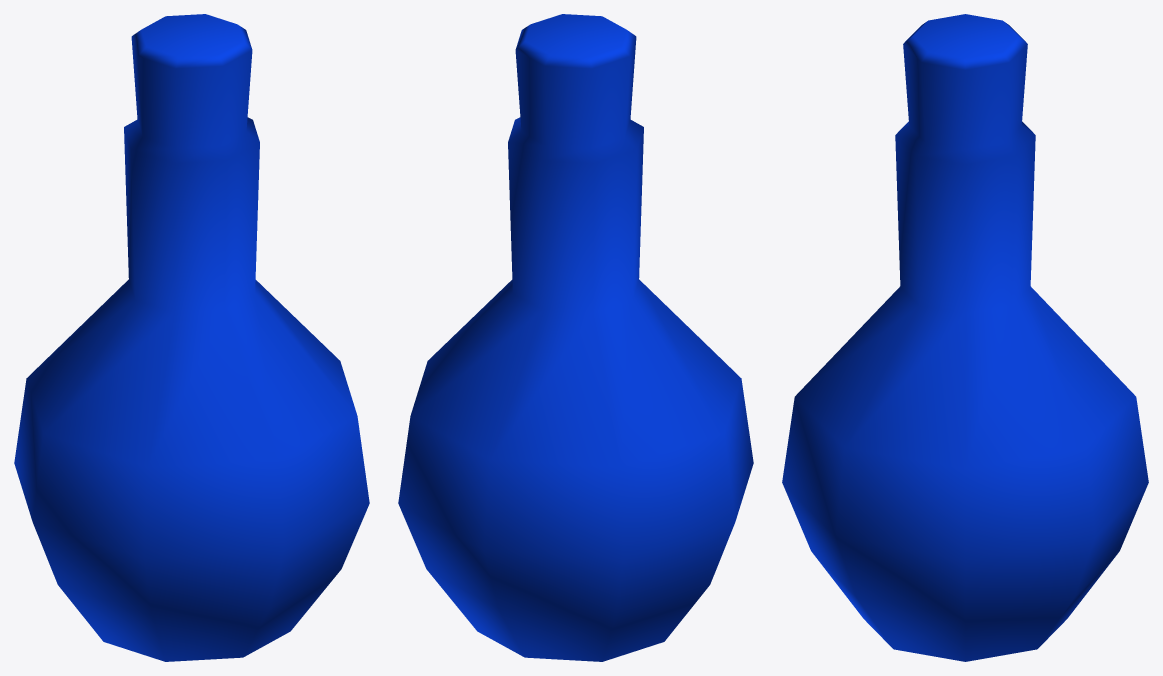
The model's file is Potion_02.fbx.
3 renders of one model, left to right at view 1: azimuth 30°, elevation 25°; view 2: azimuth 150°, elevation 25°; view 3: azimuth 270°, elevation 25°, orthographic.
Visible parts, largest first — view 1: Potion_02; view 2: Potion_02; view 3: Potion_02.
Boxes of the visible parts, x1,y1,x2,y2 form: Potion_02: [14, 14, 369, 661]; Potion_02: [398, 14, 753, 661]; Potion_02: [782, 14, 1148, 661].
Bounding box in the file's own units: 18.14 × 31.81 × 18.14.
